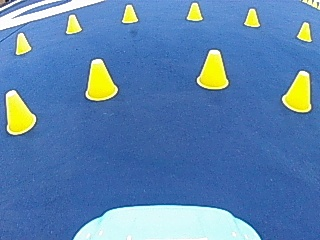cone: (83, 57, 118, 100), (3, 88, 36, 133), (196, 48, 229, 89), (281, 68, 312, 111), (14, 32, 31, 54), (185, 1, 203, 21), (242, 6, 260, 26), (65, 13, 82, 34), (295, 21, 312, 41), (121, 3, 138, 23)
